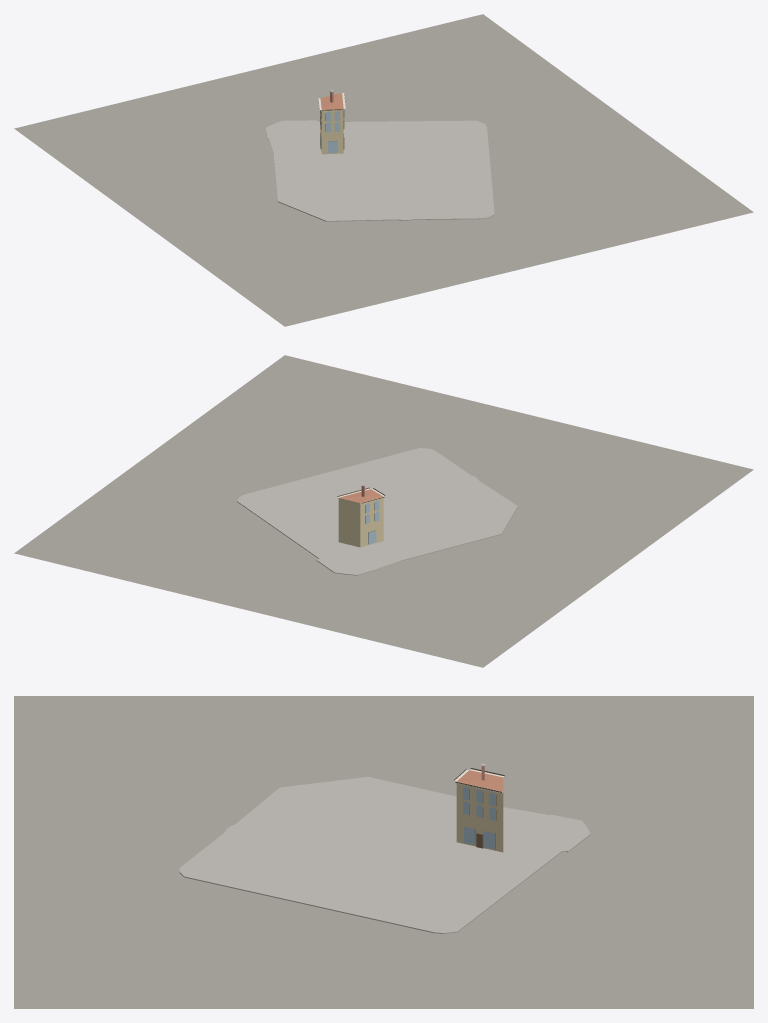
3 views of the same model, one above another, from view 1: azimuth 30°, elevation 25°; view 2: azimuth 150°, elevation 25°; view 3: azimuth 270°, elevation 25° (orthographic). The views are drawn at different scales.
Visible parts, largest first — view 1: ground, sidewalk, N-40; view 2: ground, sidewalk, N-40; view 3: ground, sidewalk, N-40.
Boxes of the visible parts, x1,y1,x2,y2 form: ground: (14,14,753,326); sidewalk: (265,120,494,221); N-40: (318,90,345,154); ground: (14,355,753,667); sidewalk: (237,448,517,575); N-40: (337,484,385,547); ground: (14,696,753,1008); sidewalk: (179,777,590,933); N-40: (454,763,504,852).
Bounding box in the file's own units: 100 × 11.55 × 100.
